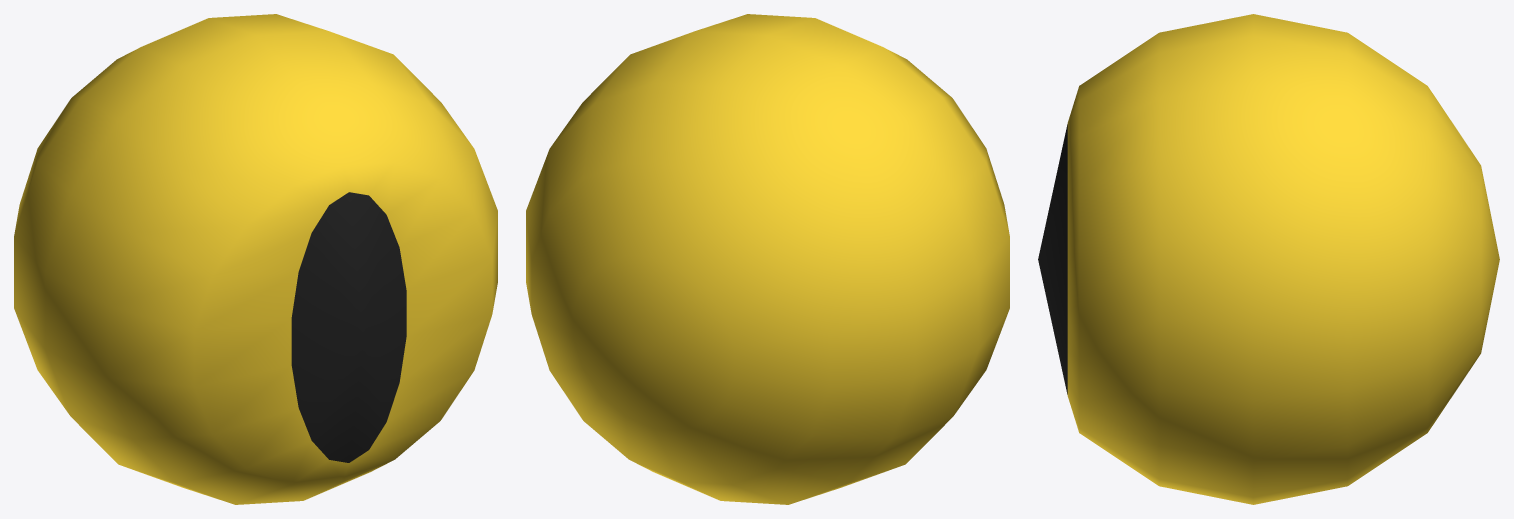
File: Devil's eye.fbx
3 views of the same model, side by side, from view 1: azimuth 30°, elevation 25°; view 2: azimuth 150°, elevation 25°; view 3: azimuth 270°, elevation 25° (orthographic).
Parts seen in each view (by area): view 1: Devil's_eye; view 2: Devil's_eye; view 3: Devil's_eye.
Part boxes in pixels (x1,y1,x2,y2): Devil's_eye: (14, 14, 497, 504); Devil's_eye: (526, 14, 1009, 504); Devil's_eye: (1038, 14, 1499, 504).
Size of the model in its own units: 35.68 by 36.23 by 33.95.
